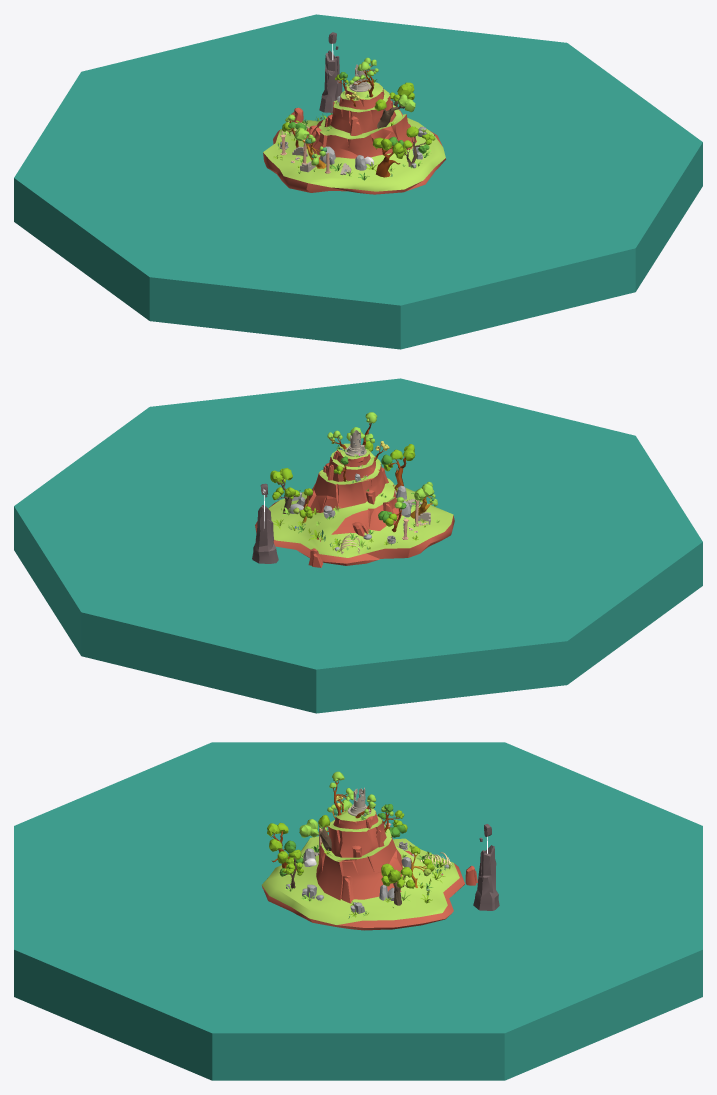
File: Island.glb
3 views of the same model, one above another, from view 1: azimuth 30°, elevation 25°; view 2: azimuth 150°, elevation 25°; view 3: azimuth 270°, elevation 25° (orthographic). The views are drawn at different scales.
Visible parts, largest first — view 1: yet_111, Plane014_108, Cylinder009_94; view 2: yet_111, Plane014_108, Cylinder009_94; view 3: yet_111, Plane014_108, Cylinder009_94.
Part boxes in pixels (left/top/right/bottom): yet_111: left=14, top=14, right=702, bottom=349; Plane014_108: left=263, top=82, right=445, bottom=194; Cylinder009_94: left=319, top=50, right=342, bottom=112; yet_111: left=14, top=378, right=702, bottom=713; Plane014_108: left=255, top=443, right=454, bottom=565; Cylinder009_94: left=252, top=505, right=278, bottom=563; yet_111: left=14, top=742, right=702, bottom=1080; Plane014_108: left=261, top=808, right=464, bottom=930; Cylinder009_94: left=473, top=845, right=499, bottom=910.
Bounding box in the file's own units: 479 × 124 × 479.
